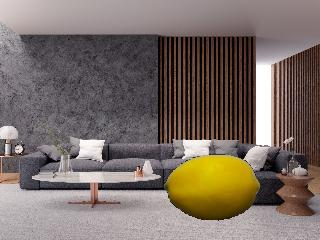lemon: (165, 155, 261, 221)
